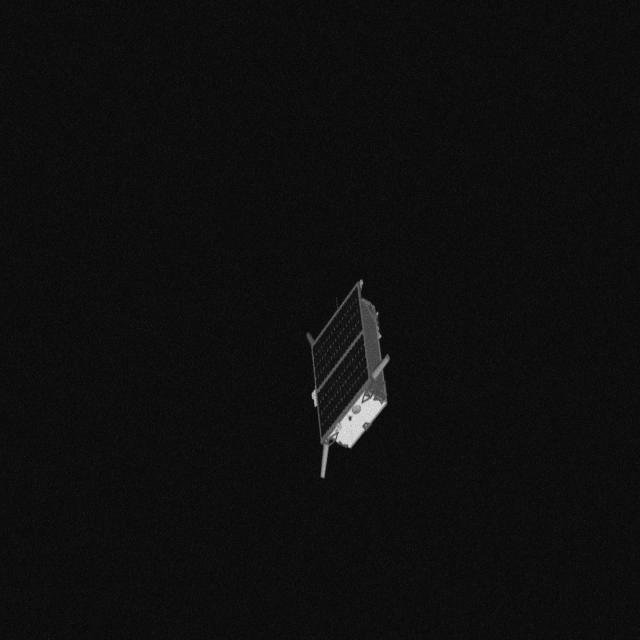satellite: (284, 270, 410, 494)
